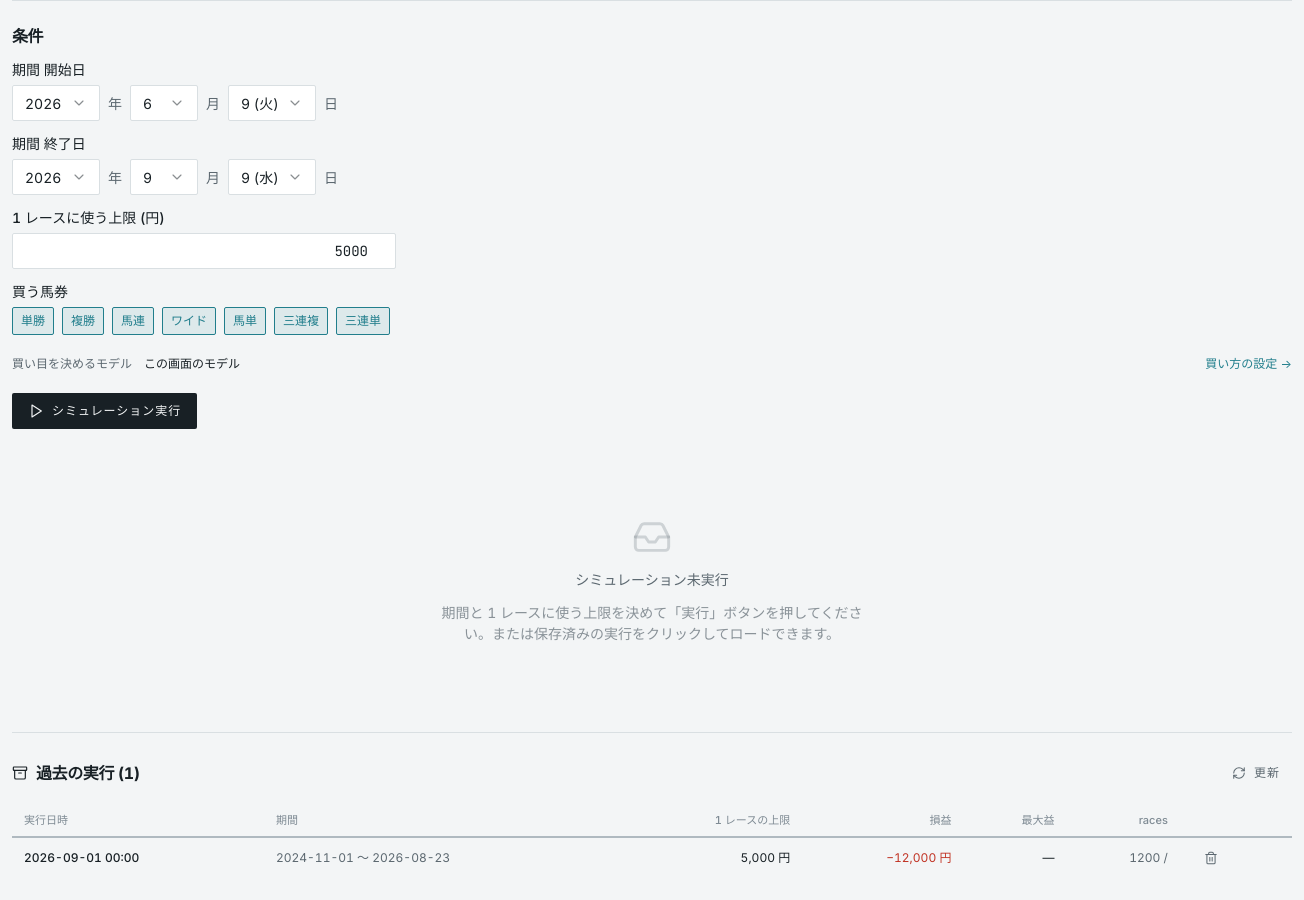
Scenario: ModelSimulationPanel の結果 › 収支は 5 枚のカードで、収支台帳と同じ並びにする
Click the row "2024-11-01" at (82, 858), box [12, 837, 1292, 878]
(page scrolled)
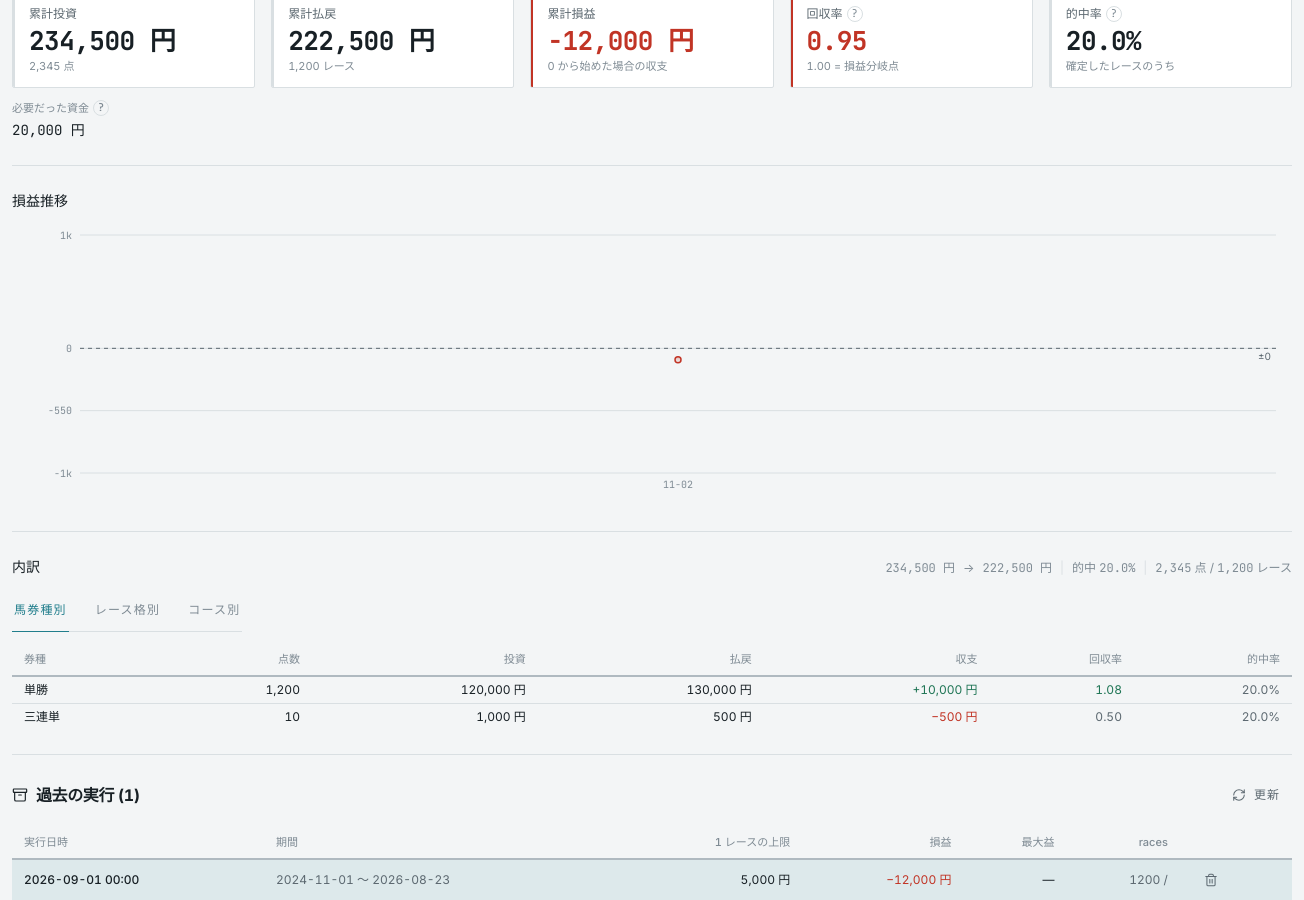
Result: the text "累計投資" is shown at [29, 6, 77, 21]
Result: the text "累計払戻" is shown at [288, 6, 336, 21]
Result: the text "累計損益" is shown at [547, 6, 595, 21]
